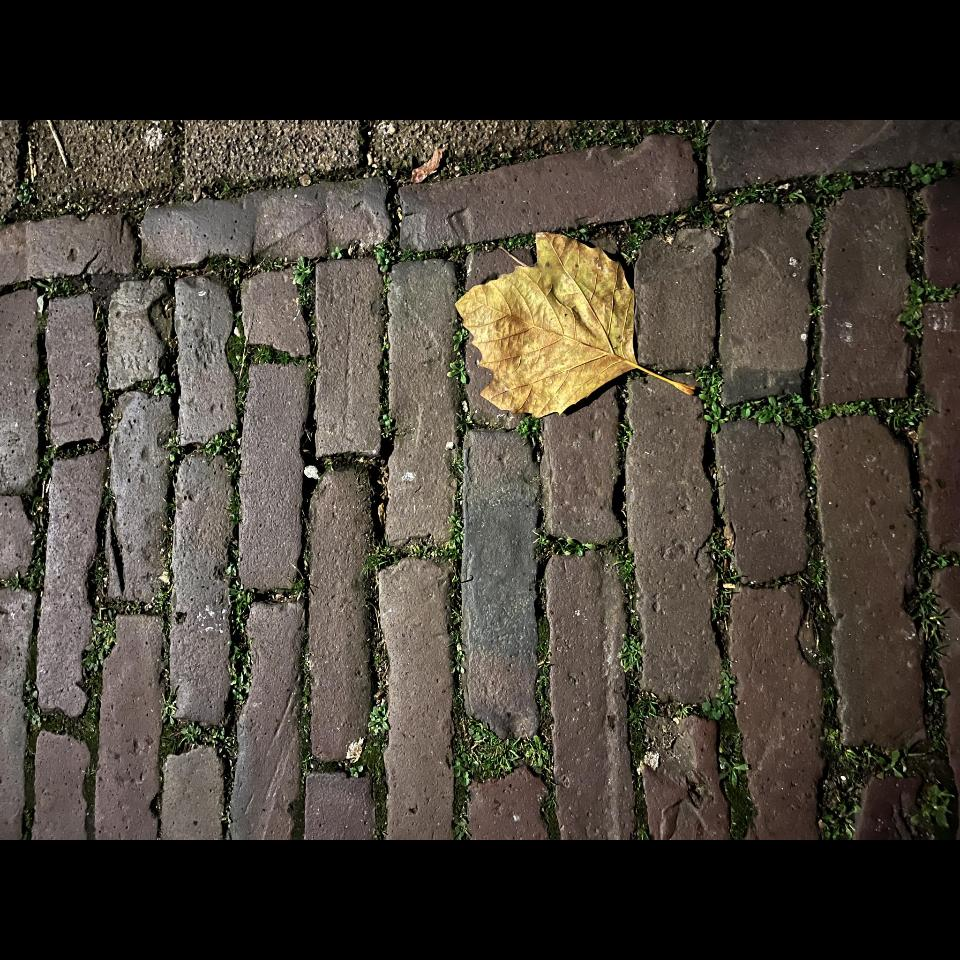weed: (622, 162, 955, 260), (818, 727, 933, 840), (453, 698, 553, 815), (697, 368, 842, 433), (364, 513, 463, 574), (228, 550, 253, 717), (899, 280, 958, 338), (223, 314, 249, 414), (205, 418, 241, 485), (841, 400, 921, 429), (83, 608, 116, 672), (701, 671, 735, 720), (720, 749, 748, 788), (620, 636, 642, 671), (228, 488, 241, 531), (294, 257, 312, 288), (448, 359, 467, 384), (153, 374, 175, 395), (455, 327, 466, 349)
